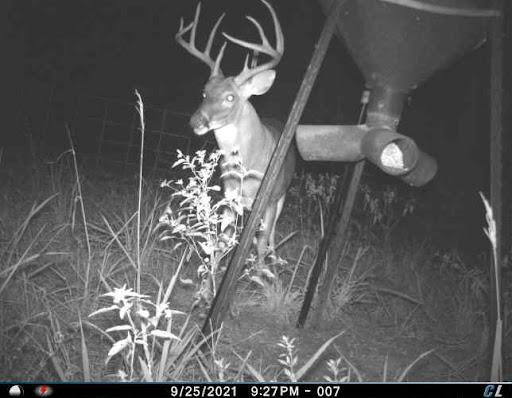Deer: (167, 0, 298, 294)
